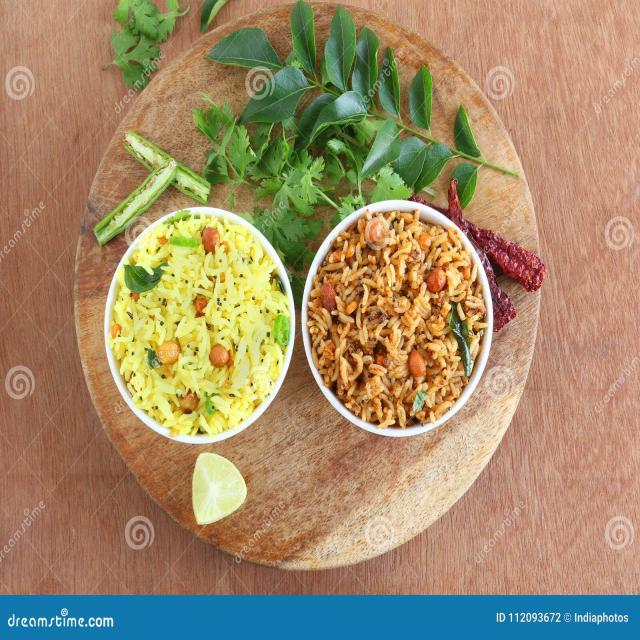puliyogare: (296, 197, 501, 450)
